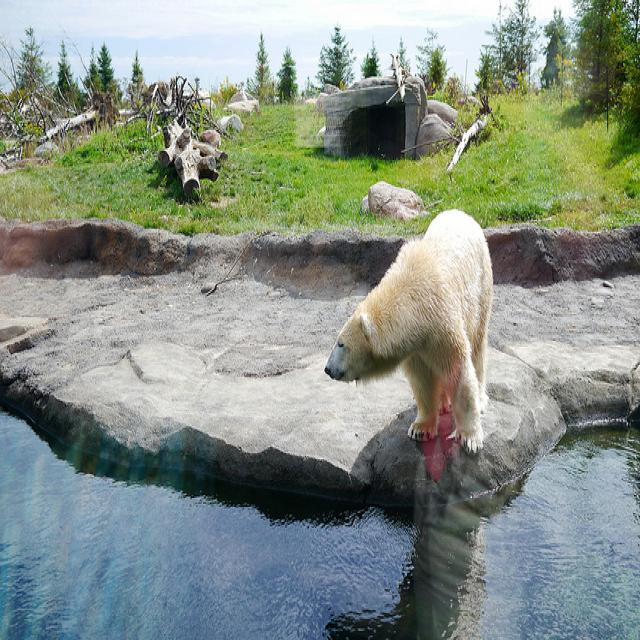Bear: (323, 198, 501, 454)
